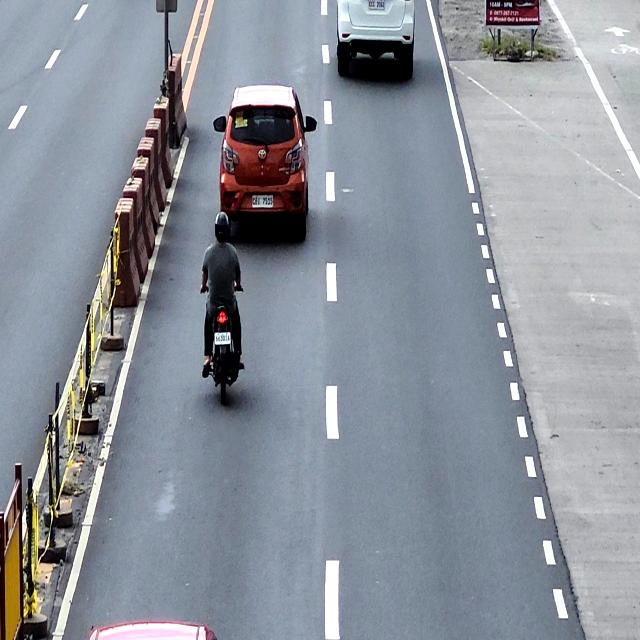Car: (213, 84, 317, 240), (336, 0, 415, 78), (86, 617, 219, 640)
License-Plate: (251, 192, 274, 208), (213, 332, 232, 346), (367, 0, 386, 10)
Motorcycle: (200, 283, 244, 405)
